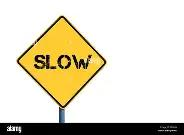Slow: (19, 17, 104, 105)
